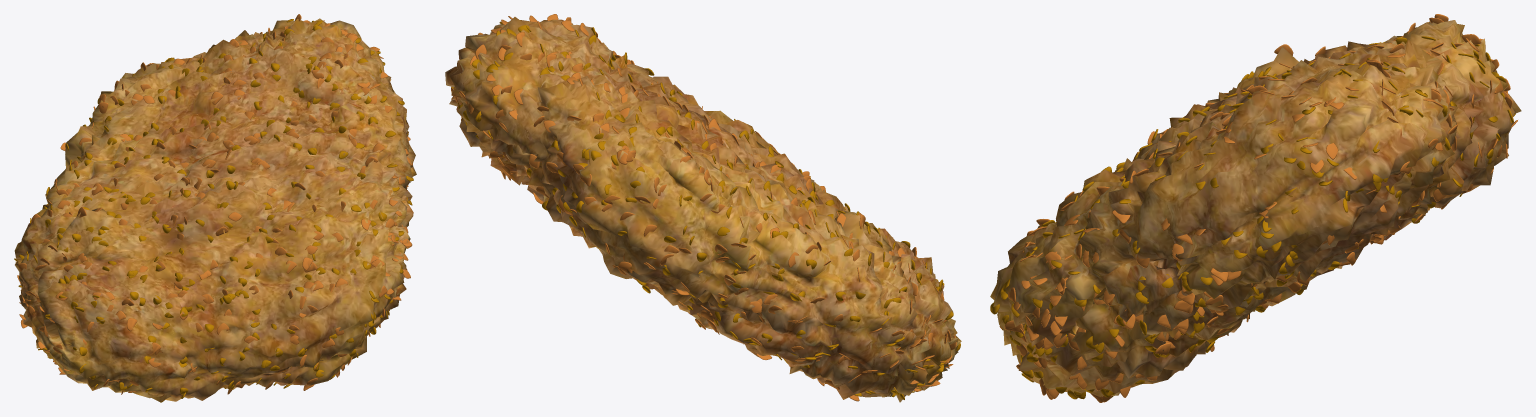
The model's file is Cireng_Full_opt.glb.
3 views of the same model, side by side, from view 1: azimuth 30°, elevation 25°; view 2: azimuth 150°, elevation 25°; view 3: azimuth 270°, elevation 25° (orthographic). The views are drawn at different scales.
Parts seen in each view (by area): view 1: NewFull_LP, Flakes; view 2: NewFull_LP, Flakes; view 3: NewFull_LP, Flakes.
Part boxes in pixels (box(x1,y1,x2,y2)): NewFull_LP: box(14, 18, 416, 401); Flakes: box(14, 14, 413, 402); NewFull_LP: box(445, 17, 961, 402); Flakes: box(451, 14, 960, 401); NewFull_LP: box(990, 20, 1521, 396); Flakes: box(990, 14, 1517, 402).
Size of the model in its own units: 8.23 by 5.88 by 6.86.
3 materials, 1 textured.
